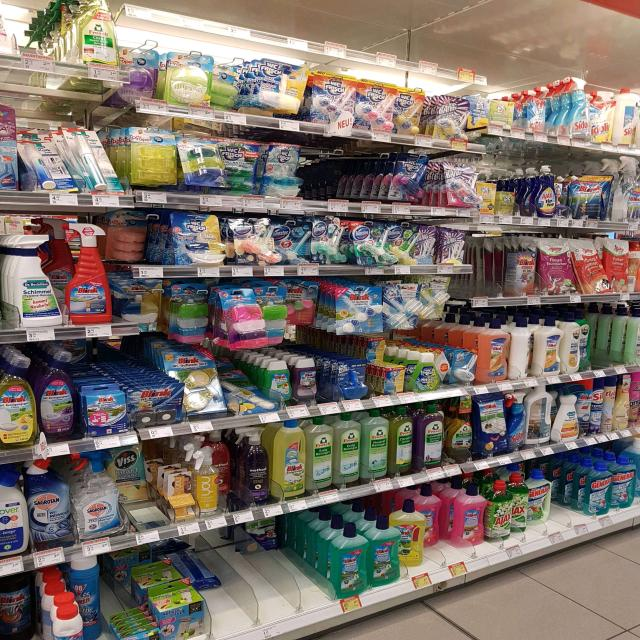empty: (242, 542, 305, 632), (456, 237, 510, 303), (584, 315, 633, 383)
